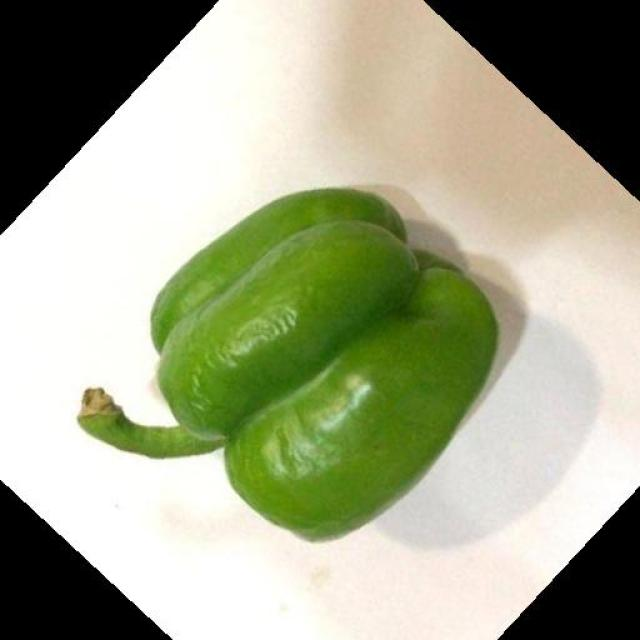Fresh_Capsicum: (140, 168, 494, 498)
